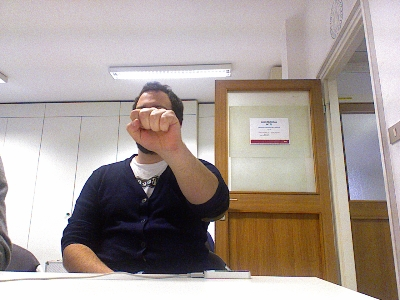石头: (125, 106, 182, 152)
